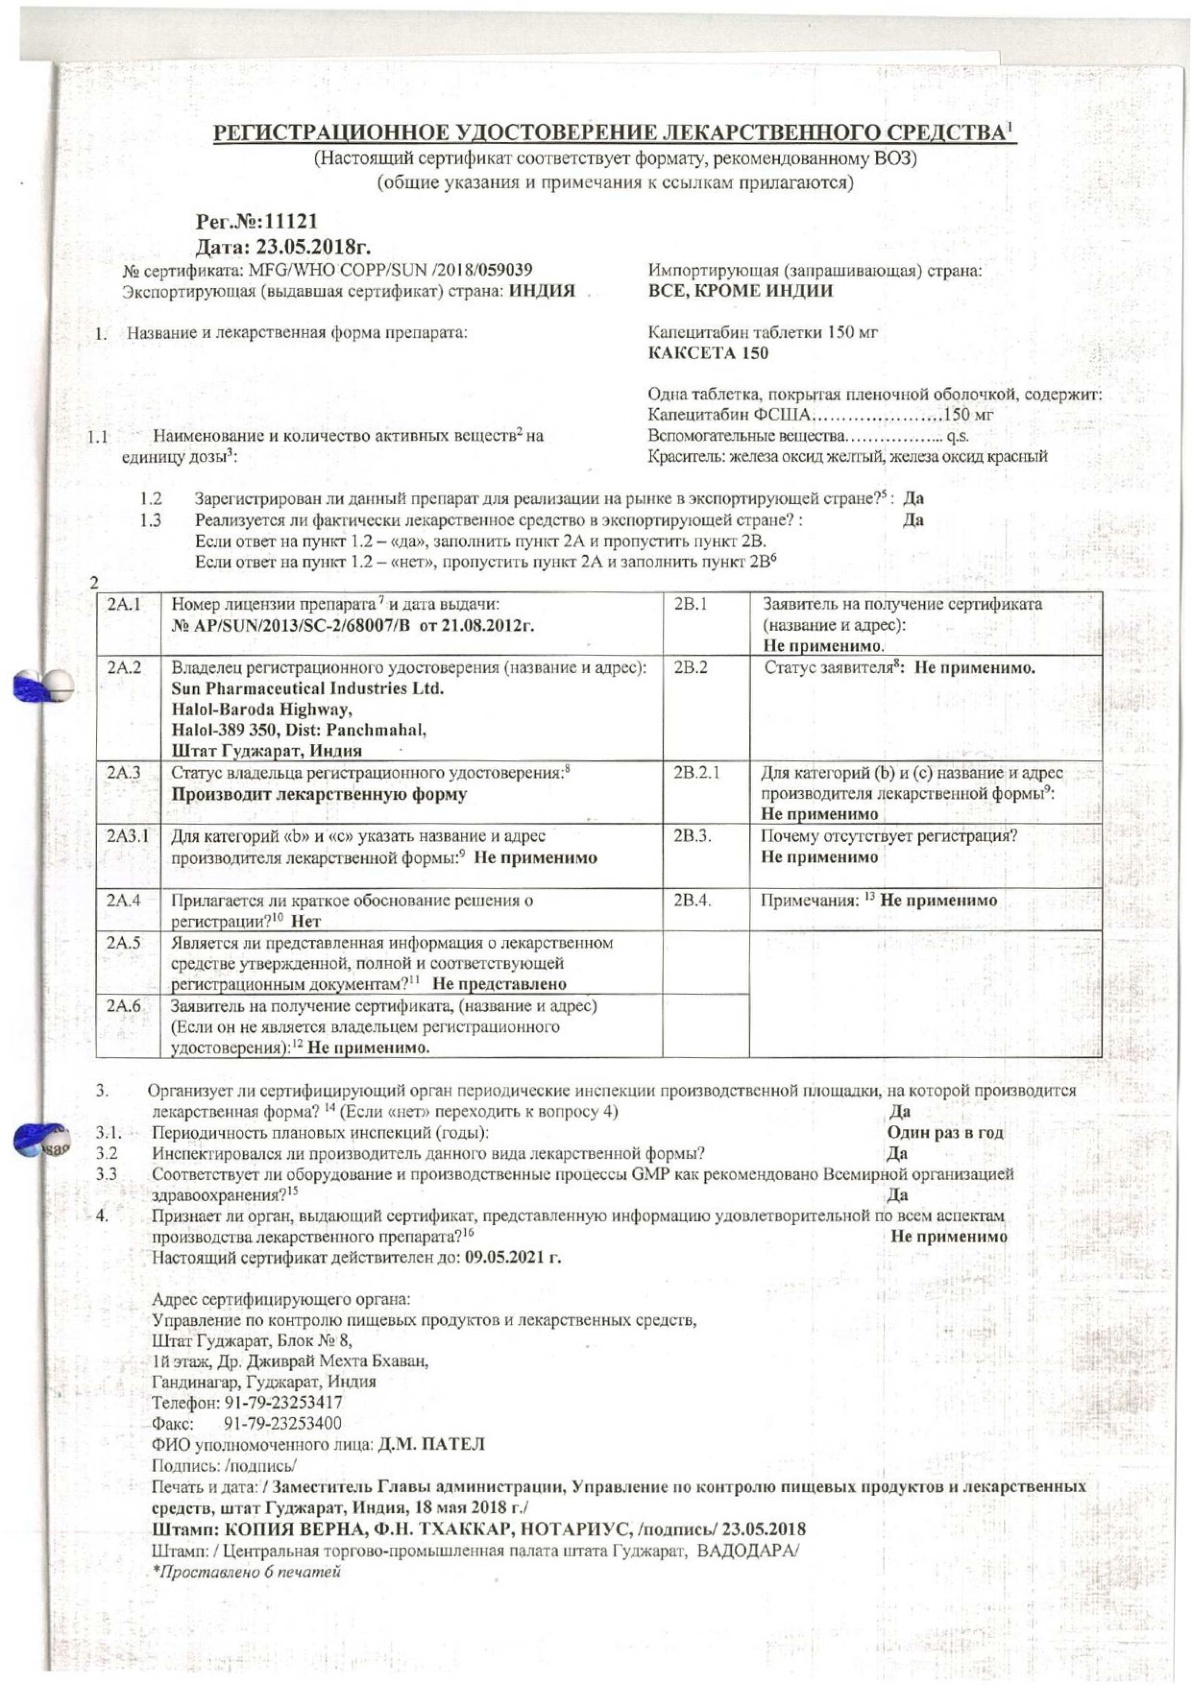merged_cells: (94, 591, 1104, 1059)
